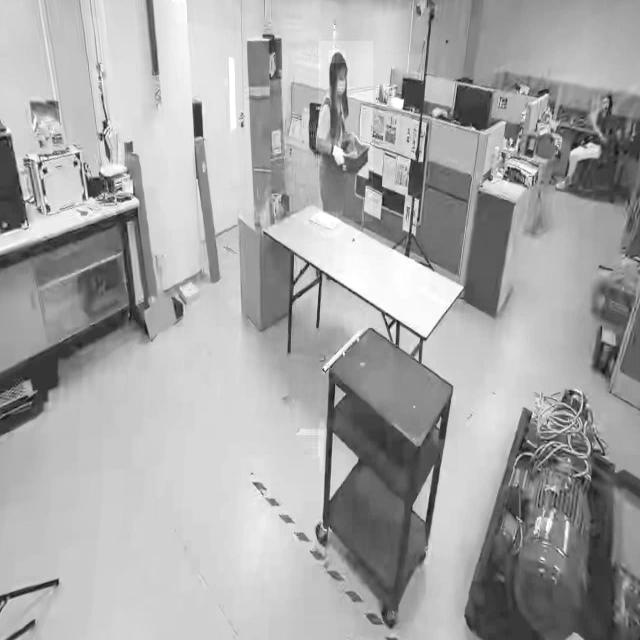face_mask: (332, 62, 348, 100)
hand_glove: (330, 138, 350, 180)
head_nohelmet: (328, 50, 346, 64)
person: (318, 41, 374, 222)
